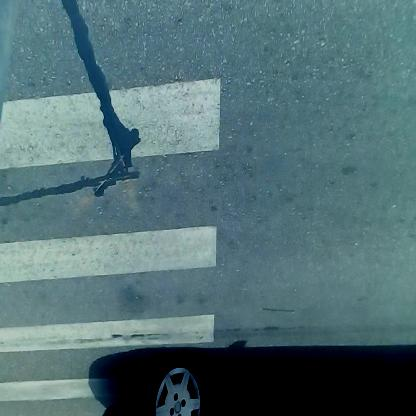crosswalk: (2, 20, 232, 374)
